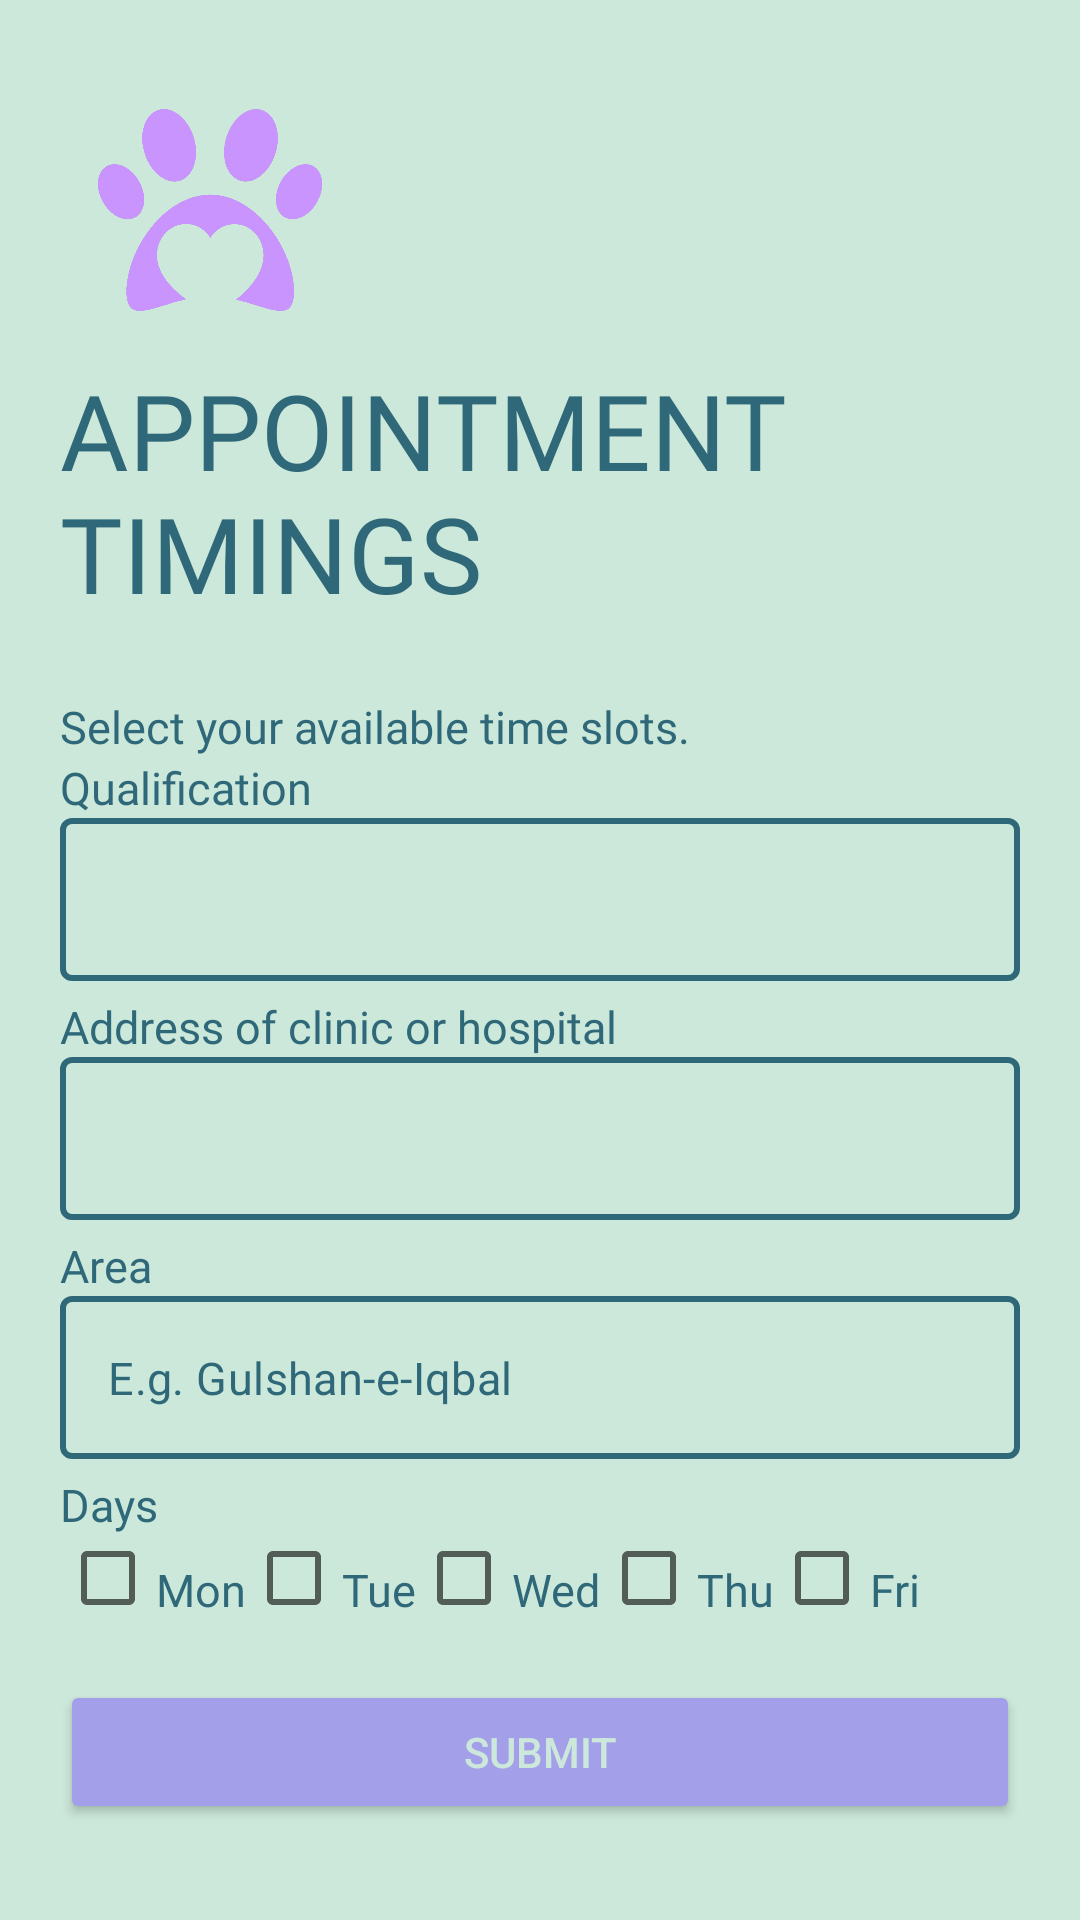

Screen size 1080w x 1920h. Icon name, then its center in pixels as point (x, y):
paw: point (210, 210)
